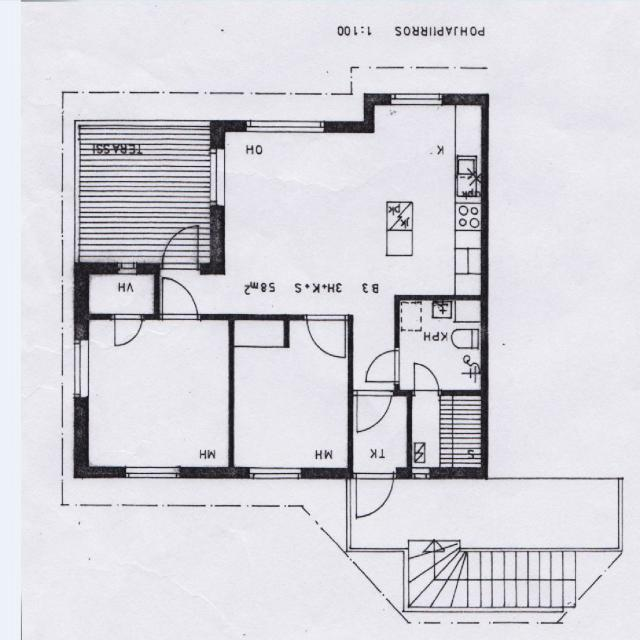door: (356, 468, 394, 520), (306, 313, 344, 362), (162, 223, 198, 274), (356, 390, 392, 434), (162, 276, 197, 319), (366, 350, 400, 382), (115, 313, 142, 349), (415, 365, 438, 396)
